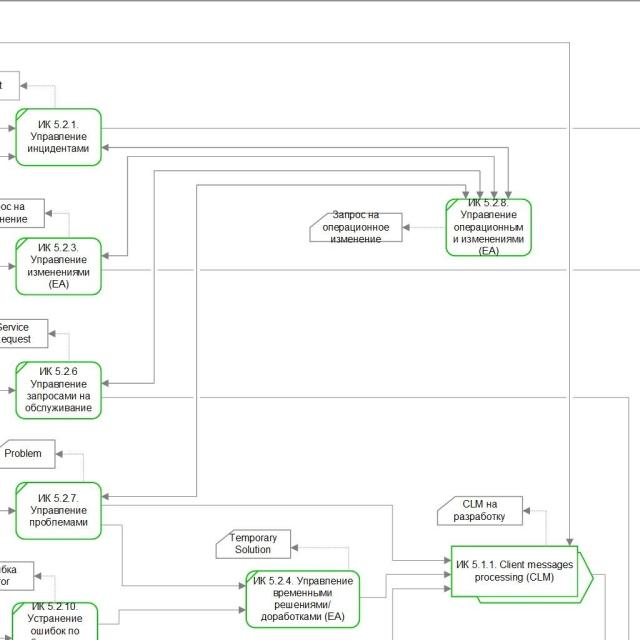arrow: (102, 182, 471, 388), (102, 169, 484, 258), (100, 141, 513, 198), (102, 143, 500, 200), (101, 522, 248, 594), (361, 570, 452, 602), (292, 544, 352, 570), (21, 78, 60, 108), (523, 508, 552, 544), (57, 448, 87, 481), (46, 328, 74, 360), (402, 220, 446, 234)
rectangle: (451, 545, 591, 604), (248, 570, 360, 630), (14, 360, 103, 420), (449, 195, 533, 258), (14, 235, 103, 294), (15, 480, 101, 539), (15, 108, 102, 164)
